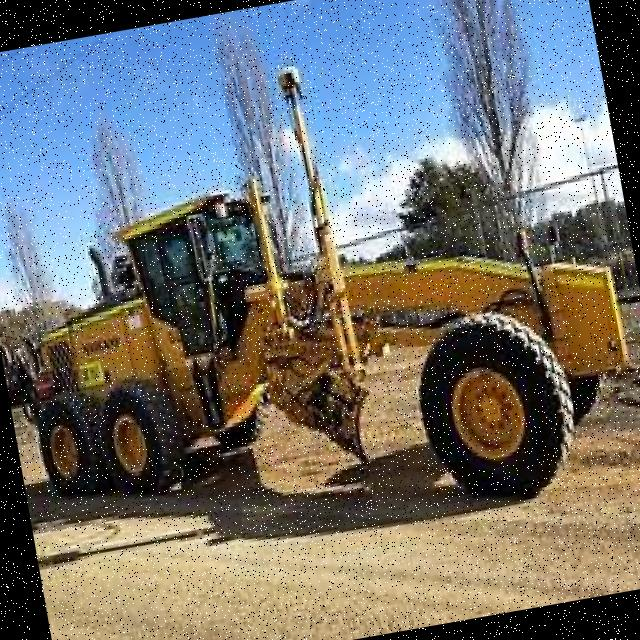Grader: (0, 96, 640, 590)
